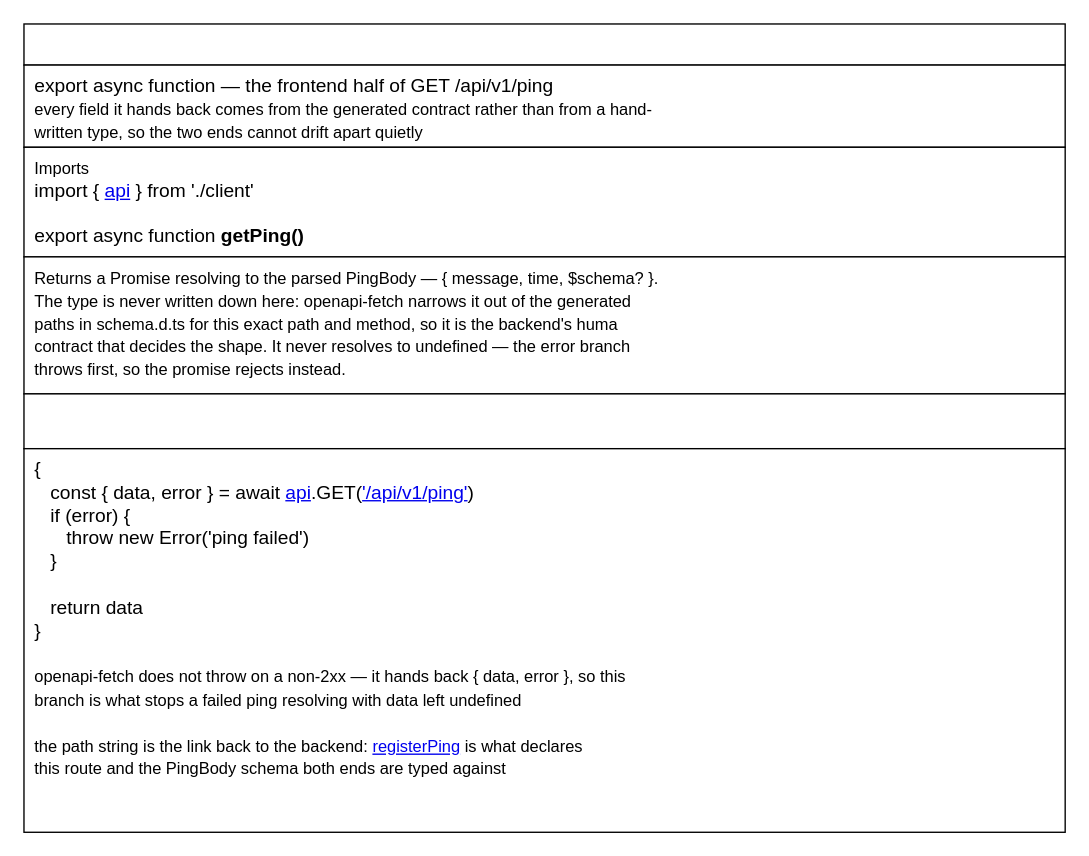
The diagram is 1089 pixels wide and 856 high, and some of its shapes have lost their labels. Here are the shapes that lost their labels. From the top down, the centre of each, then its label:
point (544, 44): LaminarFlow-Frontend/src/api/ping.ts
point (544, 421): -> return data -> throw new Error('ping failed')
